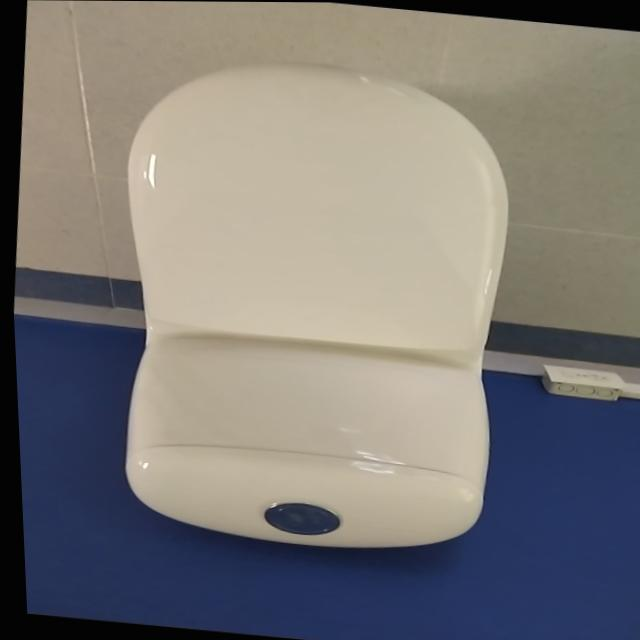toilet: (88, 47, 531, 563)
